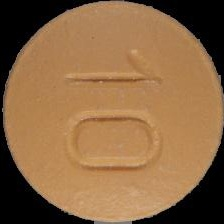0173-0830: (0, 0, 224, 224)
